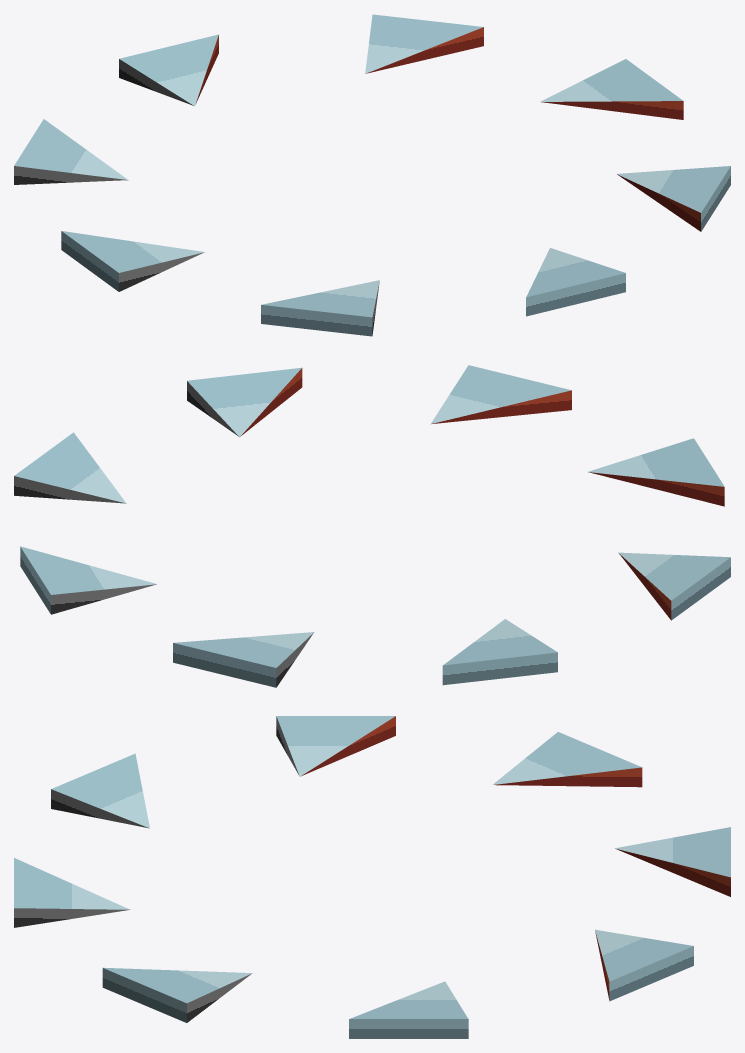
File: DECO_BEYBLADE.glb
The picture shows the model from 3 angles, top to bottom: view 1: azimuth 30°, elevation 25°; view 2: azimuth 150°, elevation 25°; view 3: azimuth 270°, elevation 25°; orthographic projection. The views are drawn at different scales.
Parts seen in each view (by area): view 1: DECO_BEYBLADE; view 2: DECO_BEYBLADE; view 3: DECO_BEYBLADE.
Part boxes in pixels (box(x1,y1,x2,y2)): DECO_BEYBLADE: box(14, 14, 730, 336); DECO_BEYBLADE: box(14, 365, 730, 687); DECO_BEYBLADE: box(14, 716, 730, 1038).
Size of the model in its own units: 12.01 by 0.366 by 12.01.
Materials: 1 (1 with a texture image).
